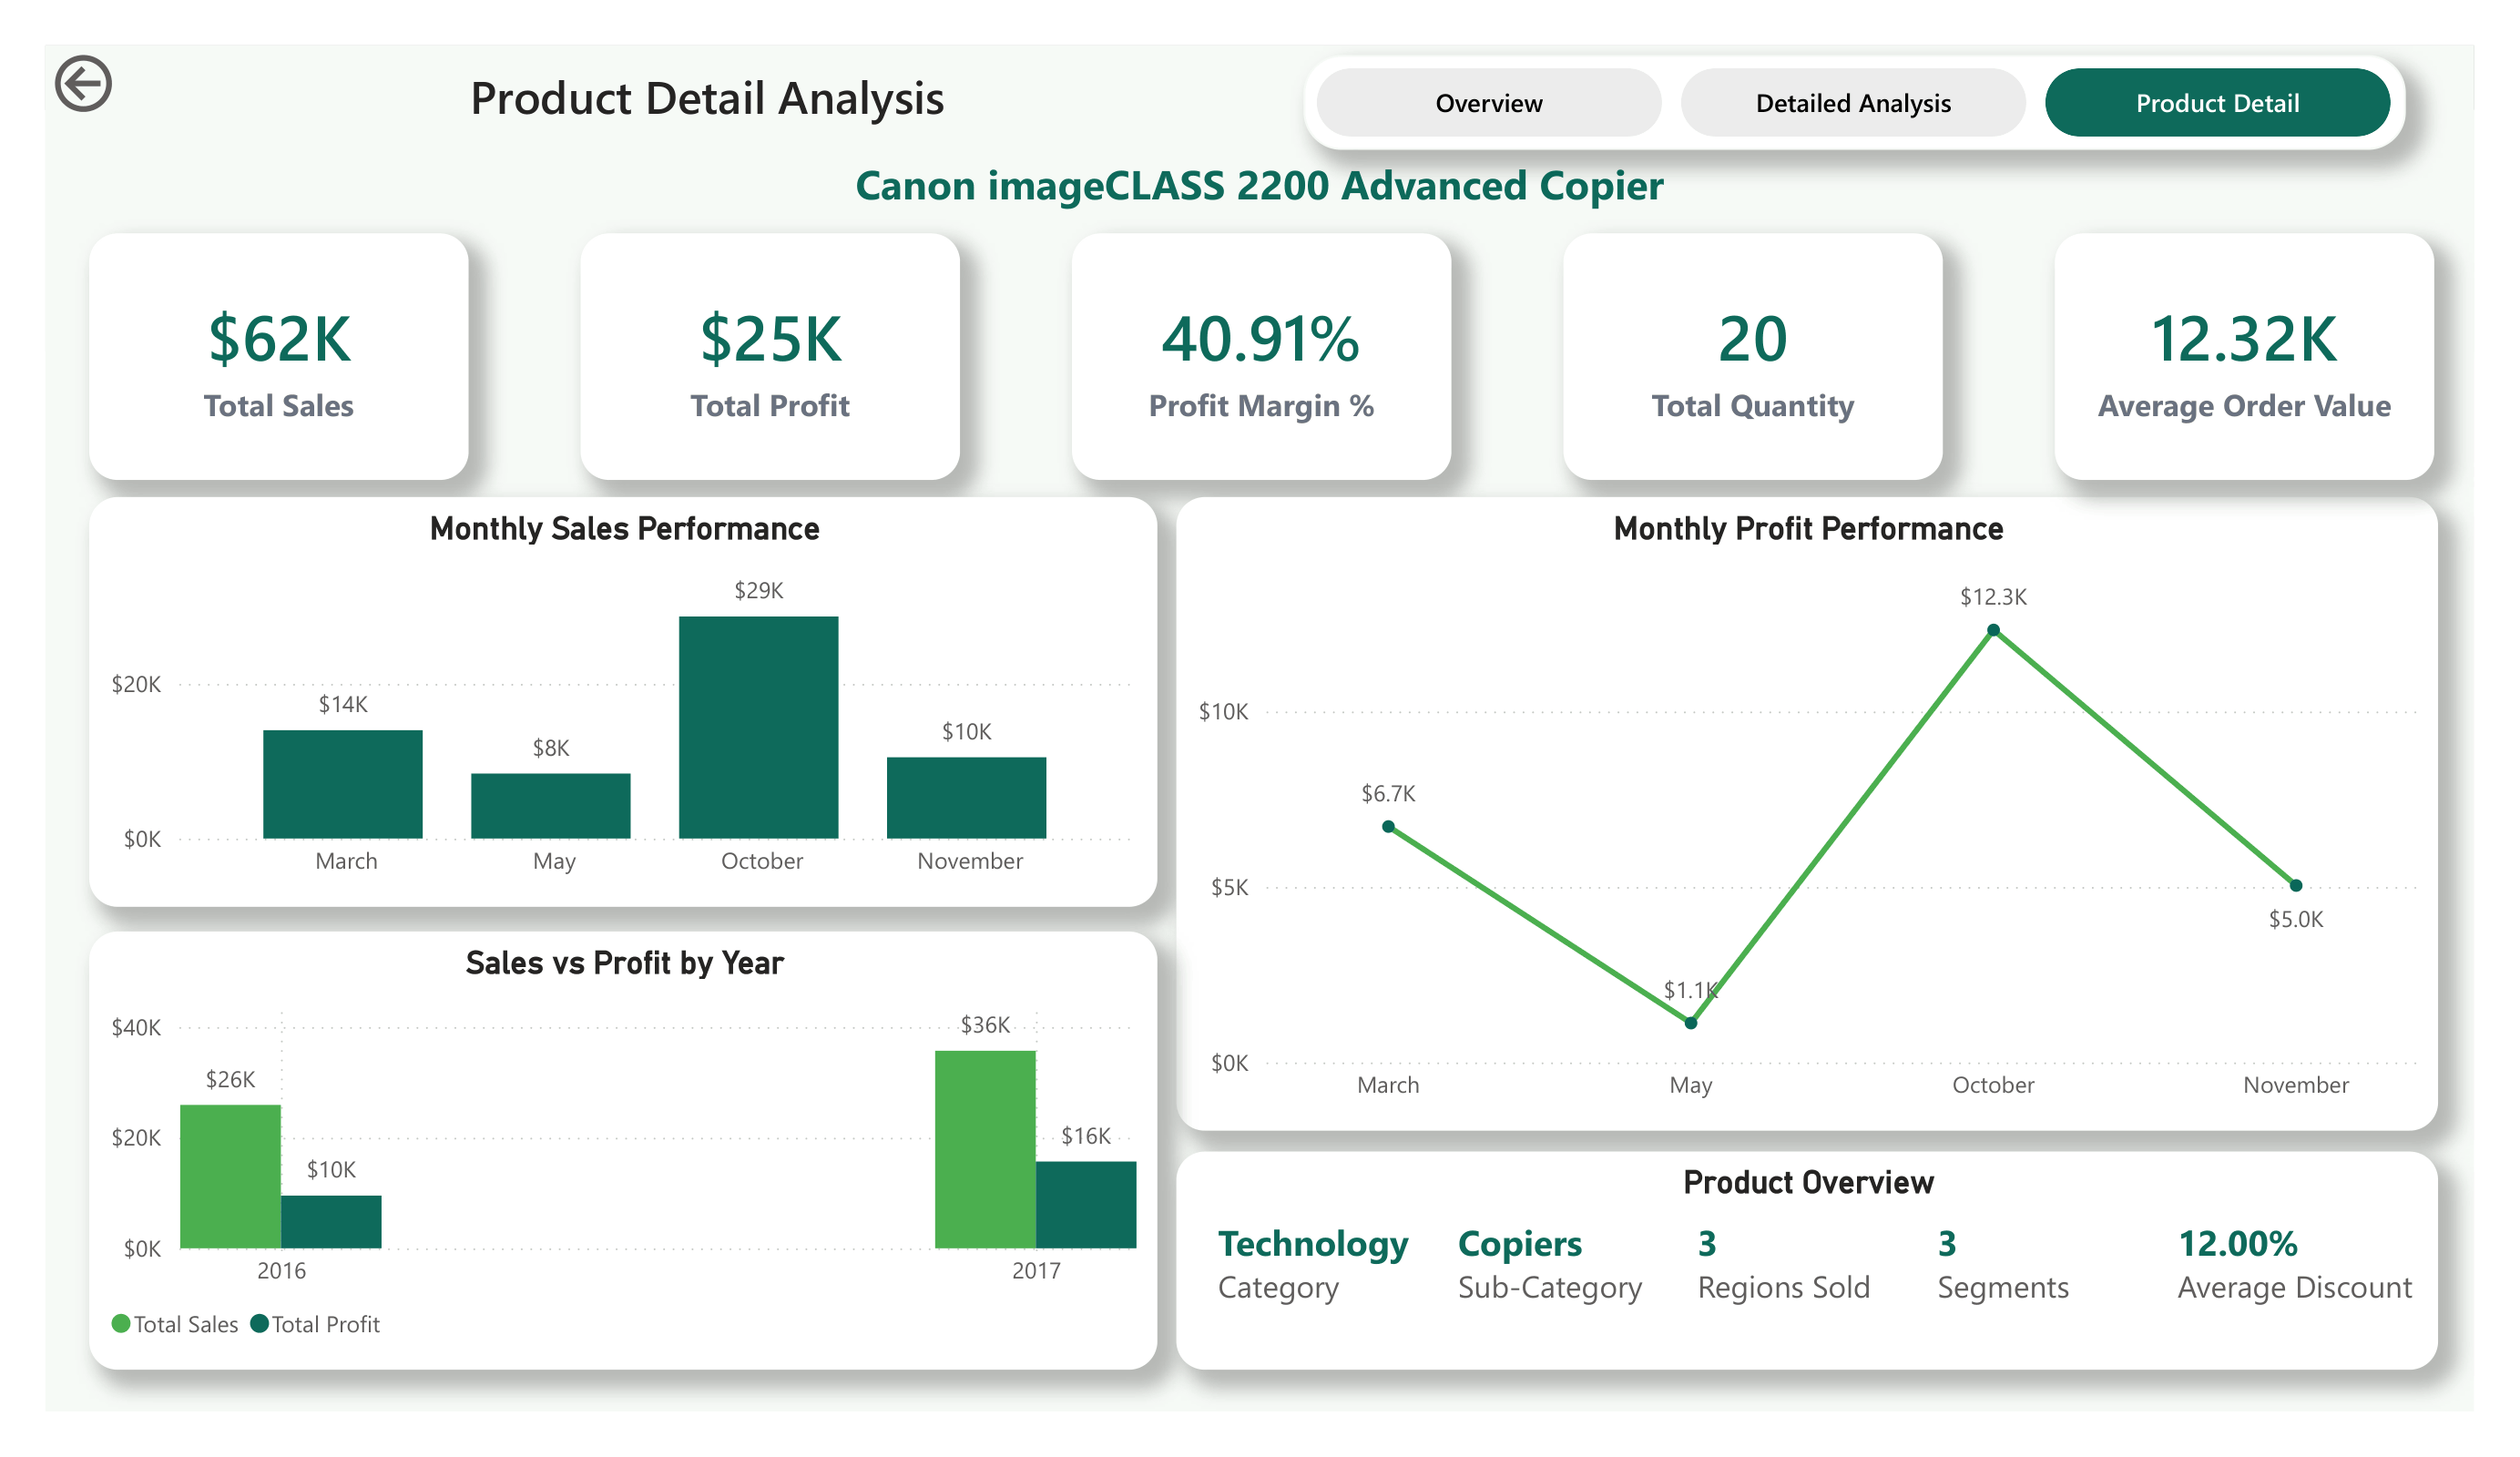

What the dashboard file says about the page in this screenshot:
{"tool":"powerbi","page":{"name":"Product Detail","canvas":[1280,720],"ordinal":2},"visuals":[{"type":"textbox","box":[35,5,628.5,50],"z":0},{"type":"actionButton","box":[0,0,100,40],"z":1000},{"type":"card","fields":{"Values":["Sales_Data.Total Sales"]},"box":[23.3,99.2,200,130],"z":2000},{"type":"card","fields":{"Values":["Sales_Data.Total Profit"]},"box":[282.3,99.2,200,130],"z":3000},{"type":"card","fields":{"Values":["Sales_Data.Profit Margin %"]},"box":[541.3,99.2,200,130],"z":4000},{"type":"card","fields":{"Values":["Sales_Data.Total Quantity"]},"box":[800.2,99.2,200,130],"z":5000},{"type":"card","fields":{"Values":["Sales_Data.Selected Product"]},"box":[0,55,1280,39],"z":6000},{"type":"clusteredColumnChart","title":"Monthly Sales Performance","fields":{"Category":["Sales_Data.Order Month"],"Y":["Sales_Data.Total Sales"]},"box":[23.3,238.3,562.2,215.9],"z":7000},{"type":"lineChart","title":"Monthly Profit Performance","fields":{"Category":["Sales_Data.Order Month"],"Y":["Sales_Data.Total Profit"]},"box":[596.2,238.3,664.3,333.6],"z":8000},{"type":"clusteredColumnChart","title":"Sales vs Profit by Year","fields":{"Y":["Sales_Data.Total Sales","Sales_Data.Total Profit"],"Category":["Sales_Data.Order Year"]},"box":[23.3,466.9,562.2,231.5],"z":9000},{"type":"multiRowCard","title":"Product Overview","fields":{"Values":["Sales_Data.Category","Sales_Data.Sub-Category","Sales_Data.Regions Sold","Sales_Data.Customer Segments","Sales_Data.Average Discount"]},"box":[596.2,582.6,664.3,115.7],"z":10000},{"type":"card","fields":{"Values":["Sales_Data.Average Order Value"]},"box":[1059.2,99.2,200,130],"z":11000},{"type":"pageNavigator","box":[663.5,5,580.5,50],"z":12000}]}

Visuals, with their boxes on the page's 1280x720 design canvas (x1, y1, x2, y2). These are canvas units, not pixel positions in the 2520x1457 screenshot, which may show the page scaled, cropped or inside an application window:
textbox: pyautogui.locateOnScreen(35, 5, 664, 55)
actionButton: pyautogui.locateOnScreen(0, 0, 100, 40)
card - Sales_Data.Total Sales: pyautogui.locateOnScreen(23, 99, 223, 229)
card - Sales_Data.Total Profit: pyautogui.locateOnScreen(282, 99, 482, 229)
card - Sales_Data.Profit Margin %: pyautogui.locateOnScreen(541, 99, 741, 229)
card - Sales_Data.Total Quantity: pyautogui.locateOnScreen(800, 99, 1000, 229)
card - Sales_Data.Selected Product: pyautogui.locateOnScreen(0, 55, 1280, 94)
"Monthly Sales Performance" clusteredColumnChart: pyautogui.locateOnScreen(23, 238, 586, 454)
"Monthly Profit Performance" lineChart: pyautogui.locateOnScreen(596, 238, 1260, 572)
"Sales vs Profit by Year" clusteredColumnChart: pyautogui.locateOnScreen(23, 467, 586, 698)
"Product Overview" multiRowCard: pyautogui.locateOnScreen(596, 583, 1260, 698)
card - Sales_Data.Average Order Value: pyautogui.locateOnScreen(1059, 99, 1259, 229)
pageNavigator: pyautogui.locateOnScreen(664, 5, 1244, 55)
